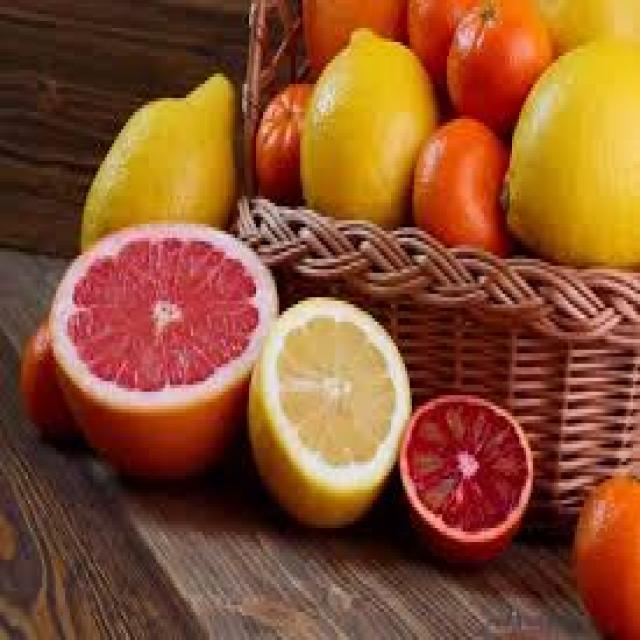organic waste: (46, 217, 274, 479), (242, 290, 410, 532), (498, 35, 638, 266), (293, 24, 435, 224), (74, 70, 230, 248), (394, 388, 528, 563), (410, 112, 510, 248), (444, 0, 549, 122), (570, 468, 638, 636), (16, 311, 74, 451), (249, 77, 307, 206), (300, 0, 403, 63), (535, 0, 637, 52), (404, 0, 472, 73)
